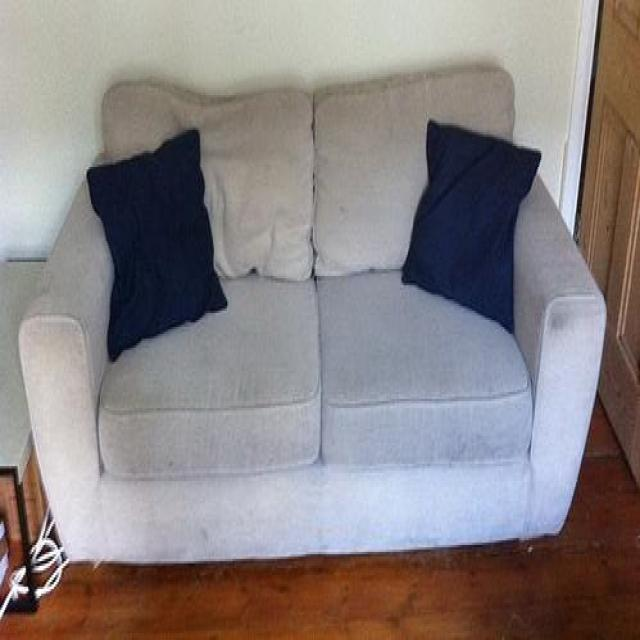sofa: (19, 59, 610, 568)
